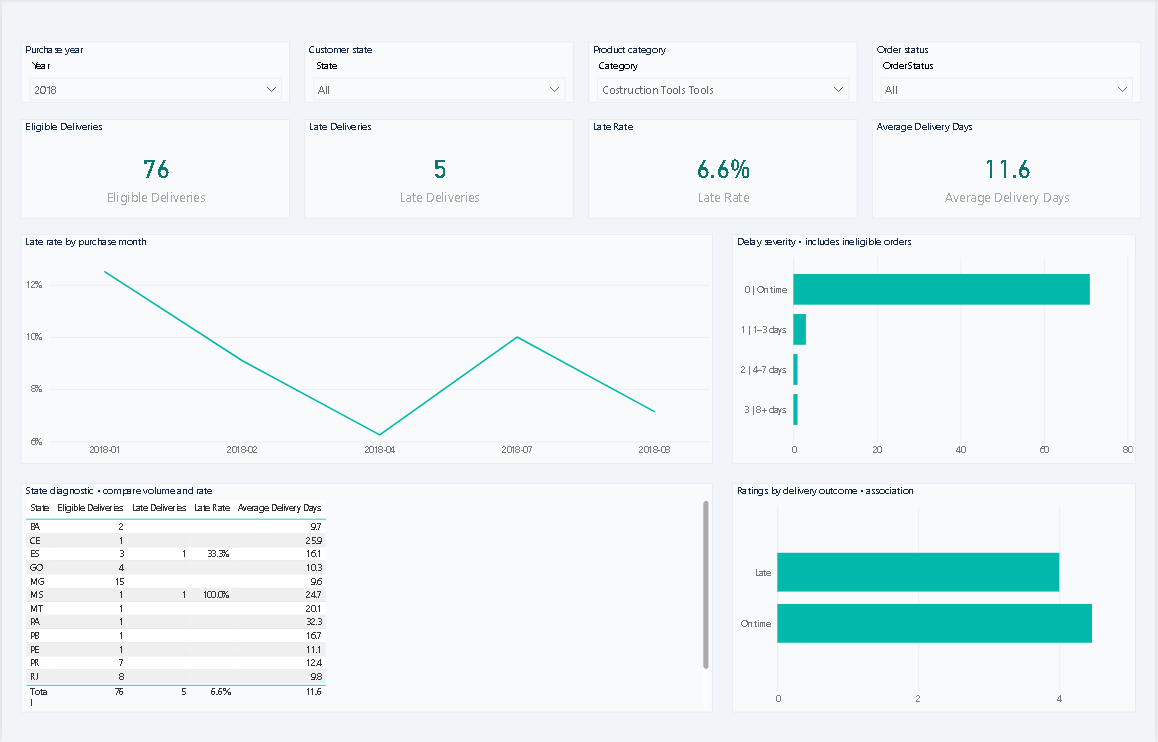

The page's visual inventory and layout, read from the dashboard file:
{"tool":"powerbi","page":{"name":"02 | Delivery diagnostics","canvas":[1440,900],"ordinal":1},"visuals":[{"type":"slicer","title":"Purchase year","fields":{"Values":["Calendar.Year"]},"box":[24,24,336,76],"z":24},{"type":"slicer","title":"Customer state","fields":{"Values":["Customers.State"]},"box":[378,24,336,76],"z":24},{"type":"slicer","title":"Product category","fields":{"Values":["Products.Category"]},"box":[732,24,336,76],"z":24},{"type":"slicer","title":"Order status","fields":{"Values":["Orders.OrderStatus"]},"box":[1086,24,336,76],"z":24},{"type":"card","title":"Eligible Deliveries","fields":{"Values":["Orders.Eligible Deliveries"]},"box":[24,120,336,124],"z":120},{"type":"card","title":"Late Deliveries","fields":{"Values":["Orders.Late Deliveries"]},"box":[378,120,336,124],"z":120},{"type":"card","title":"Late Rate","fields":{"Values":["Orders.Late Rate"]},"box":[732,120,336,124],"z":120},{"type":"card","title":"Average Delivery Days","fields":{"Values":["Orders.Average Delivery Days"]},"box":[1086,120,336,124],"z":120},{"type":"lineChart","title":"Late rate by purchase month","fields":{"Category":["Calendar.YearMonth"],"Y":["Orders.Late Rate"]},"box":[24,264,864,286],"z":264},{"type":"barChart","title":"Delay severity • includes ineligible orders","fields":{"Category":["Orders.DelayBand"],"Y":["Orders.Orders"]},"box":[912,264,504,286],"z":264},{"type":"tableEx","title":"State diagnostic • compare volume and rate","fields":{"Values":["Customers.State","Orders.Eligible Deliveries","Orders.Late Deliveries","Orders.Late Rate","Orders.Average Delivery Days"]},"box":[24,574,864,286],"z":574},{"type":"barChart","title":"Ratings by delivery outcome • association","fields":{"Category":["Orders.DeliveryOutcome"],"Y":["Orders.Average Review"]},"box":[912,574,504,286],"z":574}]}

Visuals, with their boxes in screenshot pixels (x1, y1, x2, y2), scaled from the page's 1440x900 canvas onto the 1158x742 screenshot:
"Purchase year" slicer: (left=19, top=20, right=290, bottom=82)
"Customer state" slicer: (left=304, top=20, right=574, bottom=82)
"Product category" slicer: (left=589, top=20, right=859, bottom=82)
"Order status" slicer: (left=873, top=20, right=1144, bottom=82)
"Eligible Deliveries" card: (left=19, top=99, right=290, bottom=201)
"Late Deliveries" card: (left=304, top=99, right=574, bottom=201)
"Late Rate" card: (left=589, top=99, right=859, bottom=201)
"Average Delivery Days" card: (left=873, top=99, right=1144, bottom=201)
"Late rate by purchase month" lineChart: (left=19, top=218, right=714, bottom=453)
"Delay severity • includes ineligible orders" barChart: (left=733, top=218, right=1139, bottom=453)
"State diagnostic • compare volume and rate" tableEx: (left=19, top=473, right=714, bottom=709)
"Ratings by delivery outcome • association" barChart: (left=733, top=473, right=1139, bottom=709)
